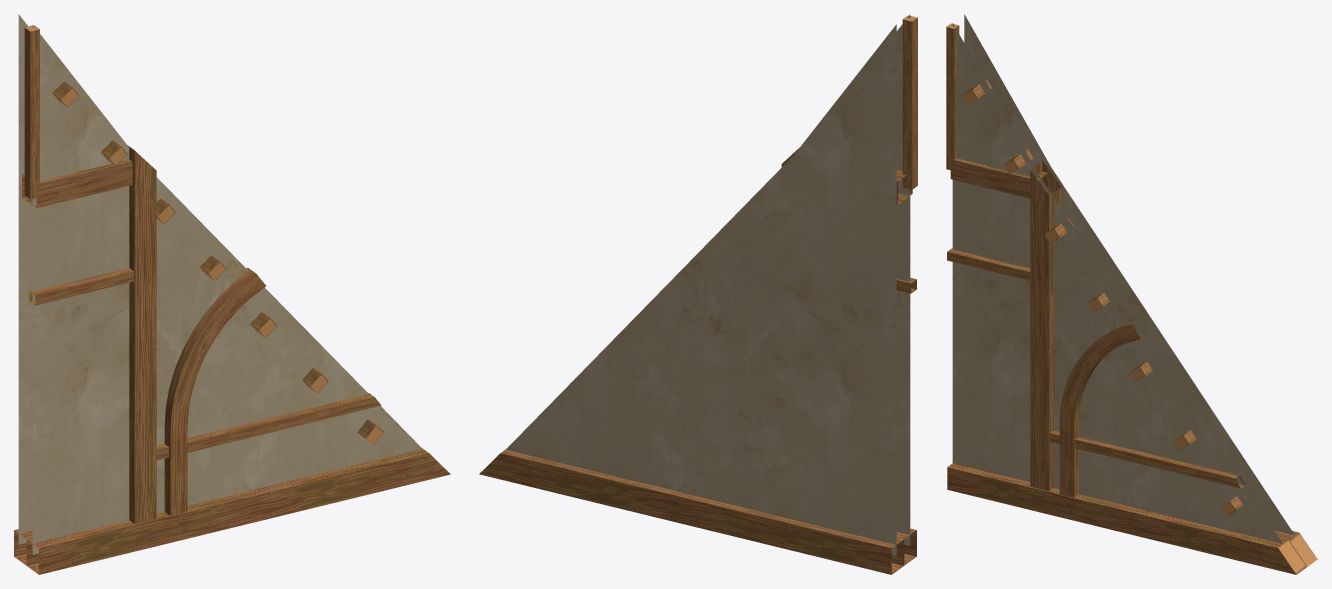
The model's file is Roof_Front_Brick8_Half_R.gltf.
3 views of the same model, side by side, from view 1: azimuth 30°, elevation 25°; view 2: azimuth 150°, elevation 25°; view 3: azimuth 330°, elevation 25° (orthographic). The views are drawn at different scales.
Visible parts, largest first — view 1: Roof_Front_Brick8_Half_R; view 2: Roof_Front_Brick8_Half_R; view 3: Roof_Front_Brick8_Half_R.
Part boxes in pixels (x1,y1,x2,y2): Roof_Front_Brick8_Half_R: (14,14,450,574); Roof_Front_Brick8_Half_R: (479,14,917,574); Roof_Front_Brick8_Half_R: (946,14,1317,574).
Bounding box in the file's own units: 4.35 × 5.45 × 0.4896.
Materials: 2 (2 with a texture image).
